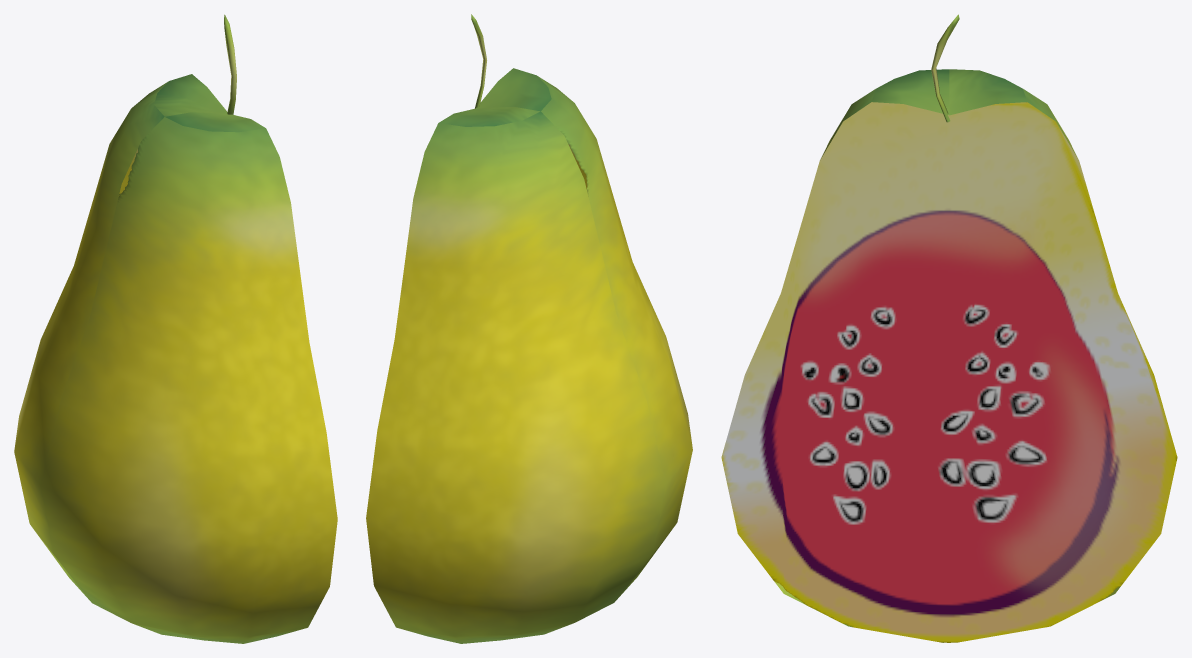
The model's file is pearS.FBX.
The picture shows the model from 3 angles, left to right: view 1: azimuth 30°, elevation 25°; view 2: azimuth 150°, elevation 25°; view 3: azimuth 270°, elevation 25°; orthographic projection. The views are drawn at different scales.
Visible parts, largest first — view 1: pear001; view 2: pear001; view 3: pear001.
Part boxes in pixels (bbox=[...]): pear001: bbox=[14, 14, 337, 643]; pear001: bbox=[366, 14, 692, 643]; pear001: bbox=[721, 14, 1177, 642].
Size of the model in its own units: 3.16 by 9.49 by 6.22.
